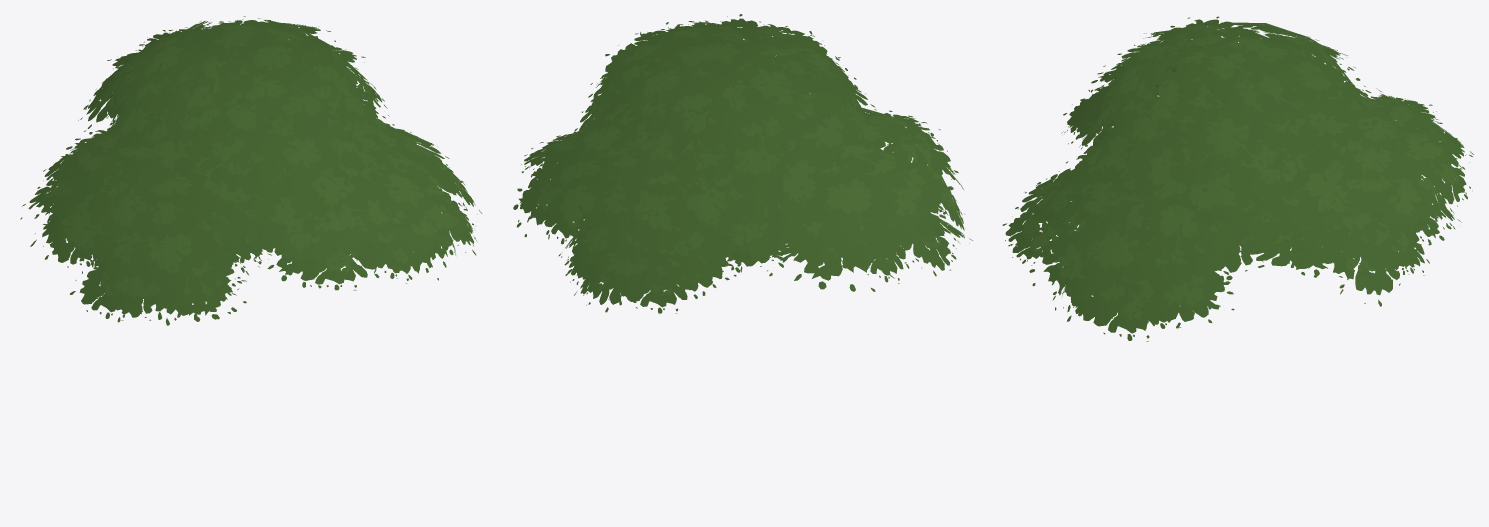
The model's file is SM_Env_Tree_01.fbx.
3 renders of one model, left to right at view 1: azimuth 30°, elevation 25°; view 2: azimuth 150°, elevation 25°; view 3: azimuth 270°, elevation 25°, orthographic. The views are drawn at different scales.
Parts seen in each view (by area): view 1: SM_Env_Tree_01_LOD0; view 2: SM_Env_Tree_01_LOD0; view 3: SM_Env_Tree_01_LOD0.
Boxes of the visible parts, x1,y1,x2,y2 form: SM_Env_Tree_01_LOD0: [20, 16, 481, 325]; SM_Env_Tree_01_LOD0: [513, 14, 972, 313]; SM_Env_Tree_01_LOD0: [1002, 16, 1473, 341].
Size of what is drawn, in the model's own units: 1238 by 1307 by 1220.
